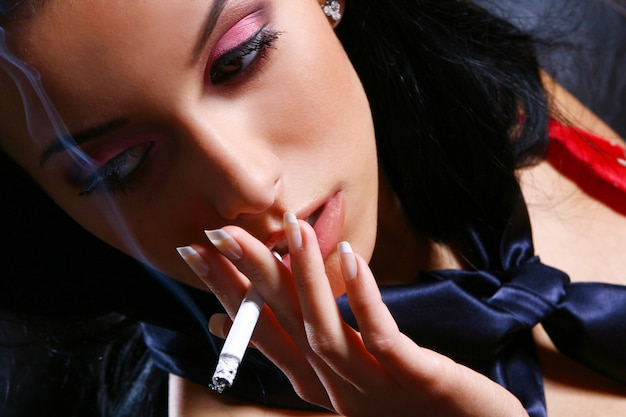cigarette: (207, 245, 289, 393)
